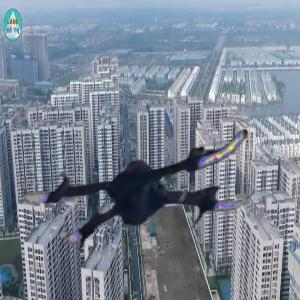drone: (27, 56, 256, 285)
